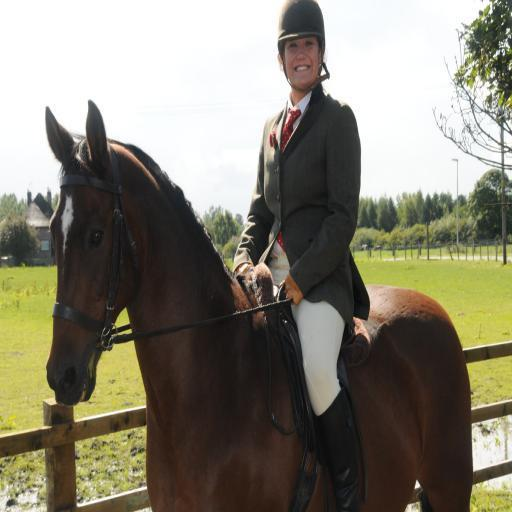horse: (45, 94, 475, 512)
